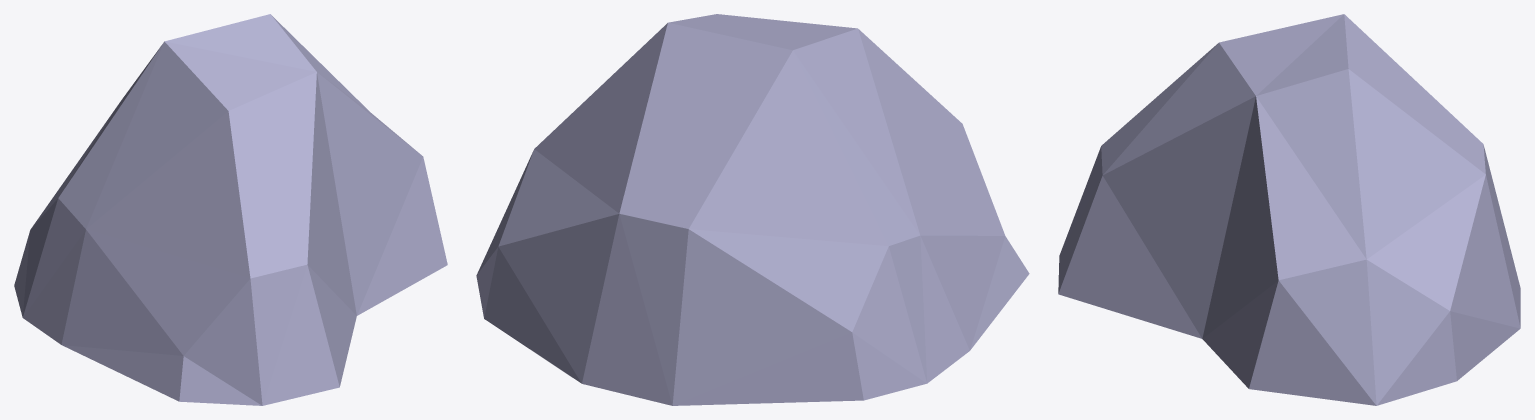
File: rock3.fbx
3 views of the same model, side by side, from view 1: azimuth 30°, elevation 25°; view 2: azimuth 150°, elevation 25°; view 3: azimuth 270°, elevation 25° (orthographic). The views are drawn at different scales.
Parts seen in each view (by area): view 1: Cube.005; view 2: Cube.005; view 3: Cube.005.
Part boxes in pixels (x1,y1,x2,y2): Cube.005: [14, 14, 447, 405]; Cube.005: [476, 14, 1029, 405]; Cube.005: [1058, 14, 1520, 405].
Size of the model in its own units: 472 by 293 by 466.
